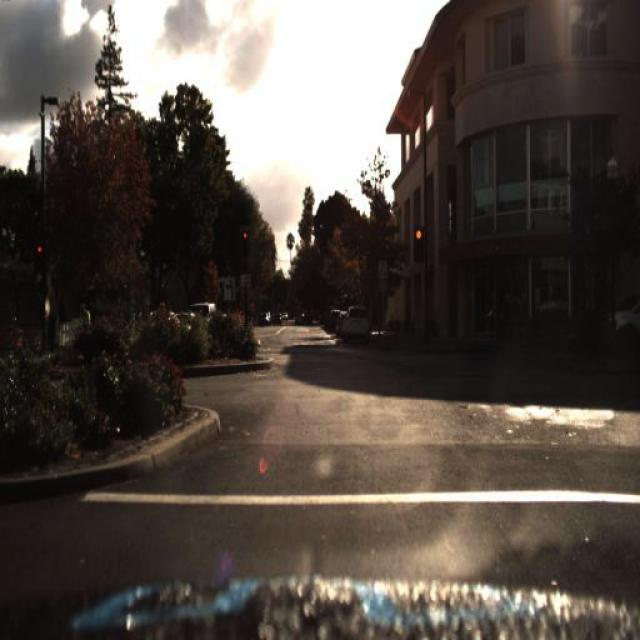semaforo: (35, 241, 46, 273), (414, 227, 424, 262)
